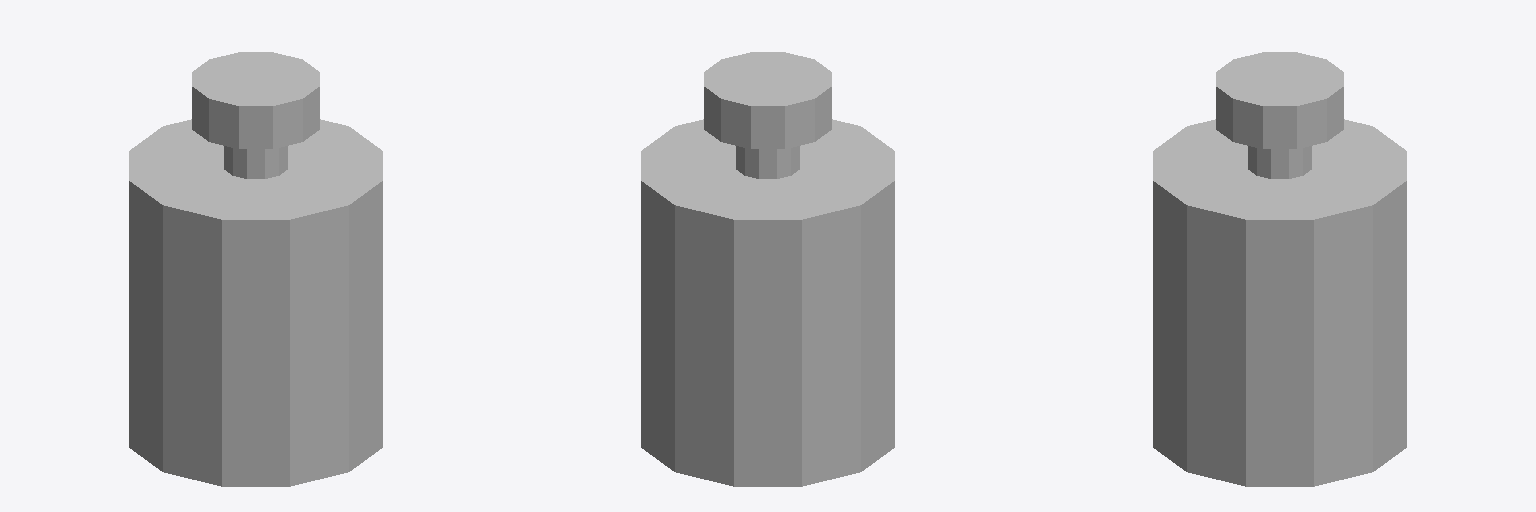
The model's file is Potion Bottle #3.obj.
The picture shows the model from 3 angles: view 1: azimuth 30°, elevation 25°; view 2: azimuth 150°, elevation 25°; view 3: azimuth 270°, elevation 25°; orthographic projection.
Visible parts, largest first — view 1: Body, Mouth, Neck; view 2: Body, Mouth, Neck; view 3: Body, Mouth, Neck.
Part boxes in pixels (x1,y1,x2,y2): Body: (129, 119, 382, 486); Mouth: (192, 52, 319, 148); Neck: (224, 146, 287, 178); Body: (641, 119, 894, 486); Mouth: (704, 52, 831, 148); Neck: (736, 146, 799, 178); Body: (1153, 119, 1406, 486); Mouth: (1216, 52, 1343, 148); Neck: (1248, 146, 1311, 178).
Size of the model in its own units: 1 by 1.53 by 1.